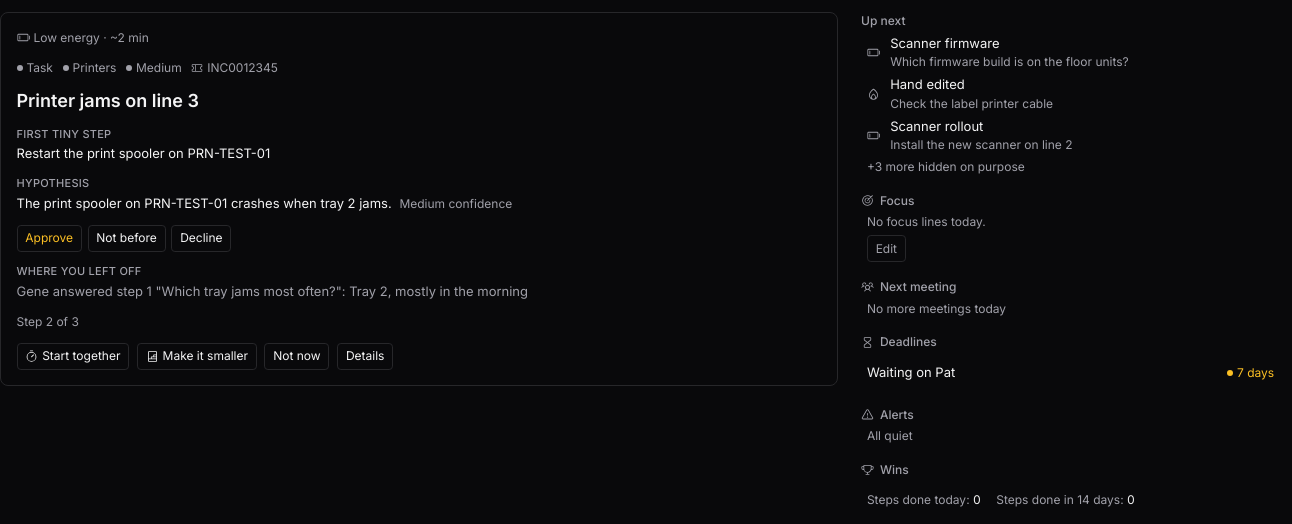
Test: NowView › test not now moves it to the back for today
Later steps or results of the test are not shown.
Step 1. Click the button "Not now" → (297, 356), box [264,343,329,370]
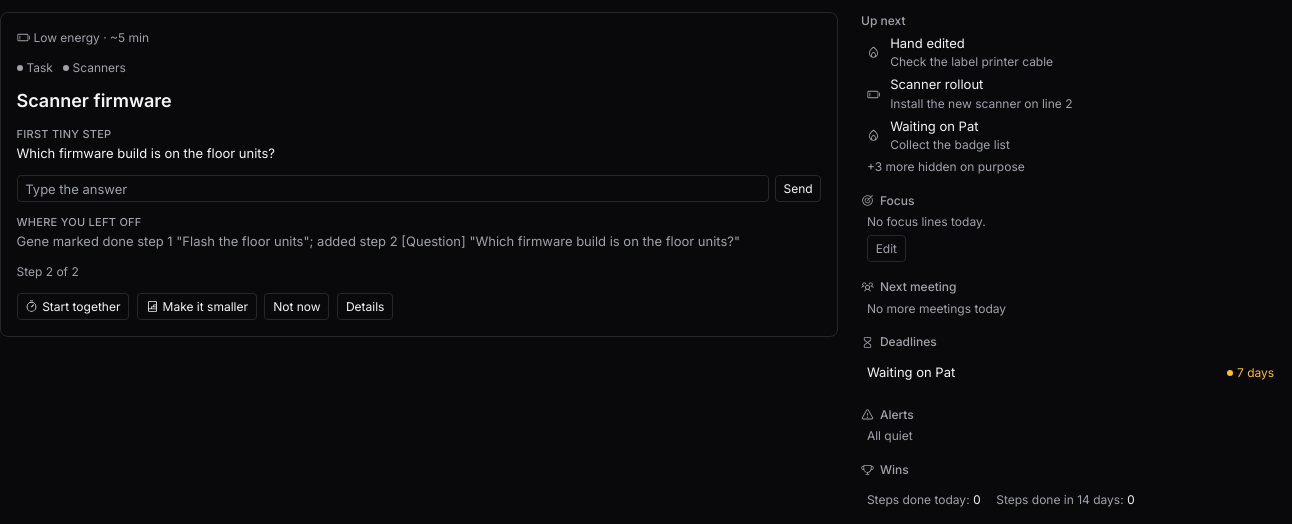
Check: the element that starts with "Low energy · ~5 min" has attribute data-now-card="Tasks/Scanner firmware.md", box [0,12,838,337]
